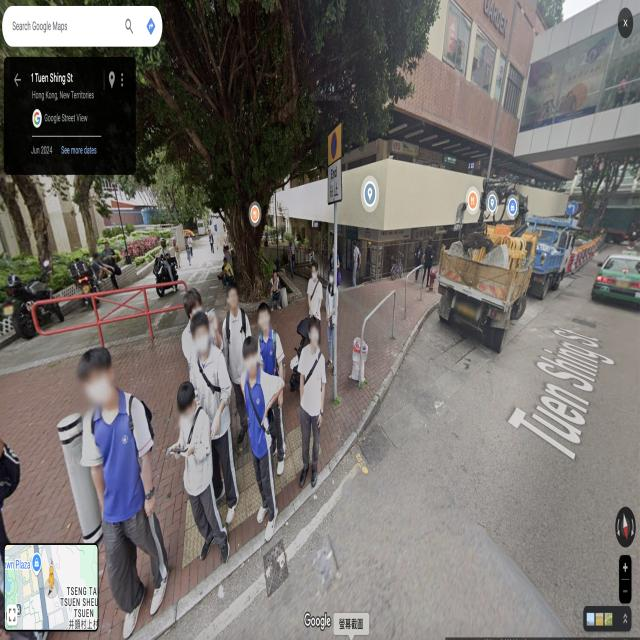Order-Sign: (328, 124, 342, 205), (566, 202, 577, 216)
